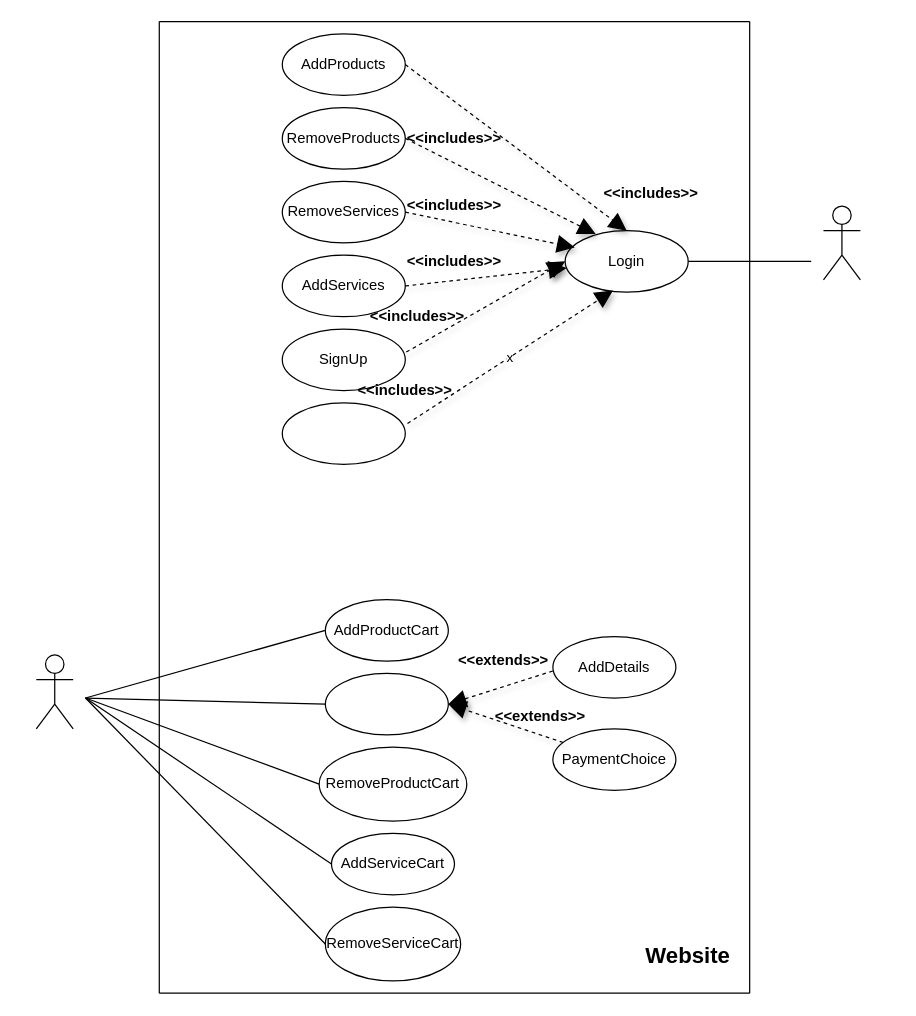
The diagram is 916 pixels wide and 1016 high, and some of its shapes have lost their labels. Each missing label, with the centre of its shape:
Business Owner: point 841,242
CompleteOrder: point 386,703
Customer: point 54,691
FufillOrder: point 343,433
